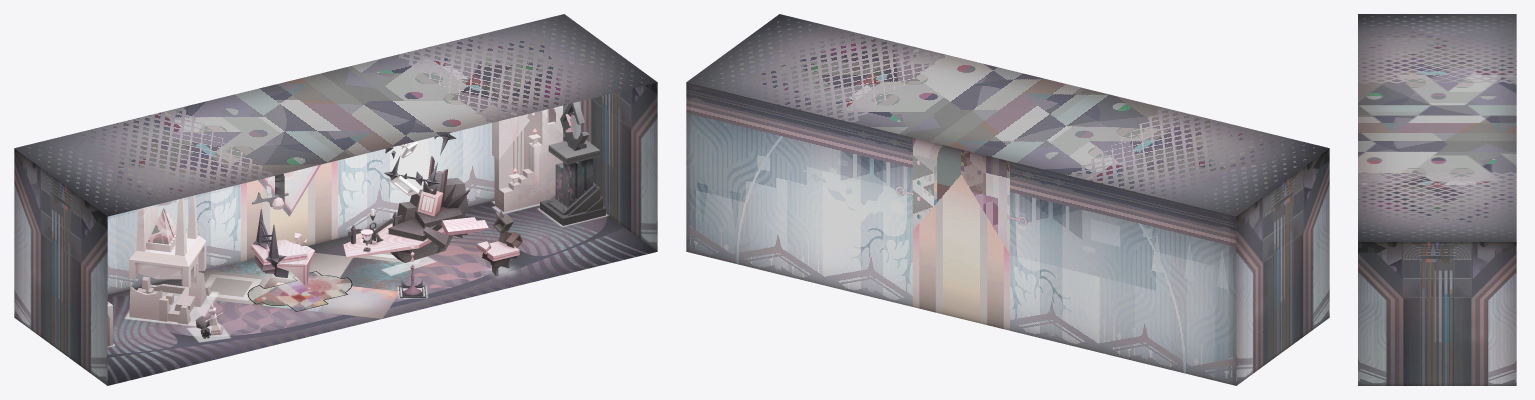
The model's file is MemoryCloister.glb.
The picture shows the model from 3 angles, left to right: view 1: azimuth 30°, elevation 25°; view 2: azimuth 150°, elevation 25°; view 3: azimuth 270°, elevation 25°; orthographic projection. The views are drawn at different scales.
Visible parts, largest first — view 1: ROOM_room, ROOM_floor, furni_MemoryCloister_weaponRack_01, furni_MemoryCloister_altar_02, furni_MemoryCloister_table_01, furni_MemoryCloister_clock_01, furni_MemoryCloister_altar_01, furni_MemoryCloister_table_02, furni_MemoryCloister_carpet_01, ROOM_LDoor, ROOM_RDoor, furni_MemoryCloister_chair_L_02 (+8 smaller); view 2: ROOM_room, ROOM_LDoor; view 3: ROOM_room, ROOM_RDoor.
Boxes of the visible parts, x1,y1,x2,y2 form: ROOM_room: [14, 14, 657, 385]; ROOM_floor: [107, 200, 657, 385]; furni_MemoryCloister_weaponRack_01: [494, 105, 562, 212]; furni_MemoryCloister_altar_02: [129, 195, 206, 304]; furni_MemoryCloister_table_01: [348, 178, 470, 262]; furni_MemoryCloister_clock_01: [547, 101, 602, 215]; furni_MemoryCloister_altar_01: [129, 208, 211, 324]; furni_MemoryCloister_table_02: [343, 156, 488, 258]; furni_MemoryCloister_carpet_01: [247, 271, 352, 311]; ROOM_LDoor: [74, 285, 93, 375]; ROOM_RDoor: [625, 151, 643, 241]; furni_MemoryCloister_chair_L_02: [251, 209, 307, 266]; ROOM_room: [686, 14, 1329, 385]; ROOM_LDoor: [1297, 251, 1315, 341]; ROOM_room: [1358, 14, 1516, 385]; ROOM_RDoor: [1381, 320, 1413, 385].
Bounding box in the file's own units: 7.51 × 2.2 × 2.26.
7 materials, 7 textured.
